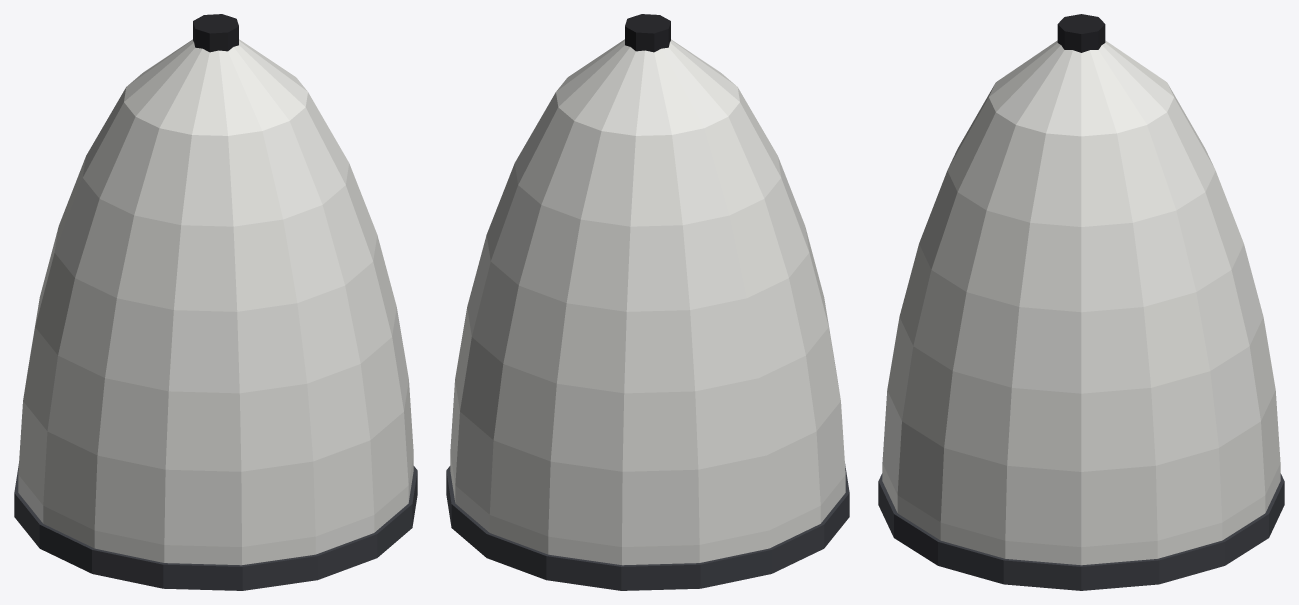
Rendered from Head_Nose_L.fbx.
3 views of the same model, side by side, from view 1: azimuth 30°, elevation 25°; view 2: azimuth 150°, elevation 25°; view 3: azimuth 270°, elevation 25° (orthographic).
Parts seen in each view (by area): view 1: Head_Nose_L; view 2: Head_Nose_L; view 3: Head_Nose_L.
Part boxes in pixels (x1,y1,x2,y2): Head_Nose_L: (14,14,417,590); Head_Nose_L: (446,14,849,590); Head_Nose_L: (878,14,1284,590).
Bounding box in the file's own units: 3.06 × 4 × 3.06.
Materials: 1 (1 with a texture image).
